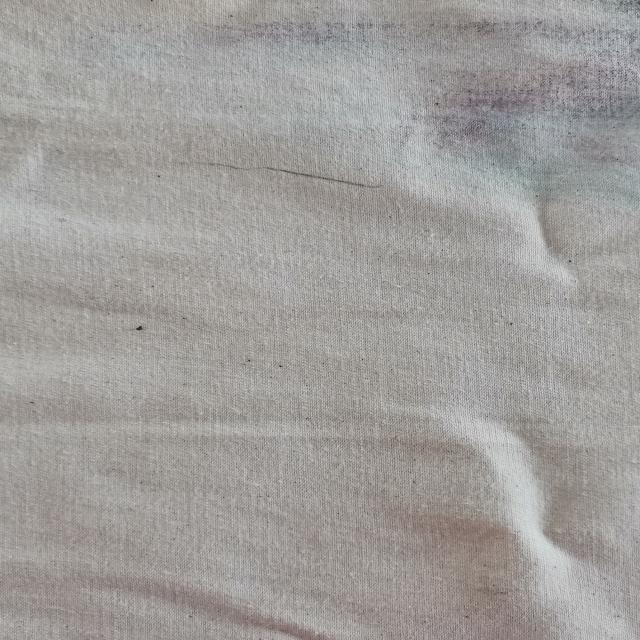taaaches: (70, 0, 640, 211)
